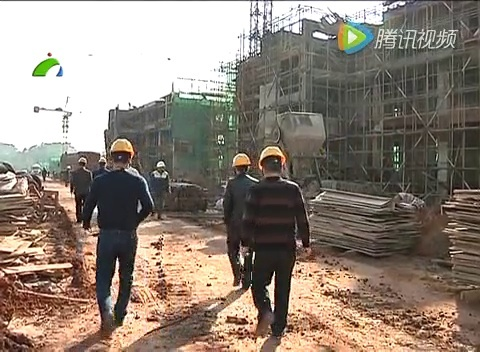yellow: (257, 145, 286, 178), (107, 138, 134, 169), (231, 152, 252, 175)
